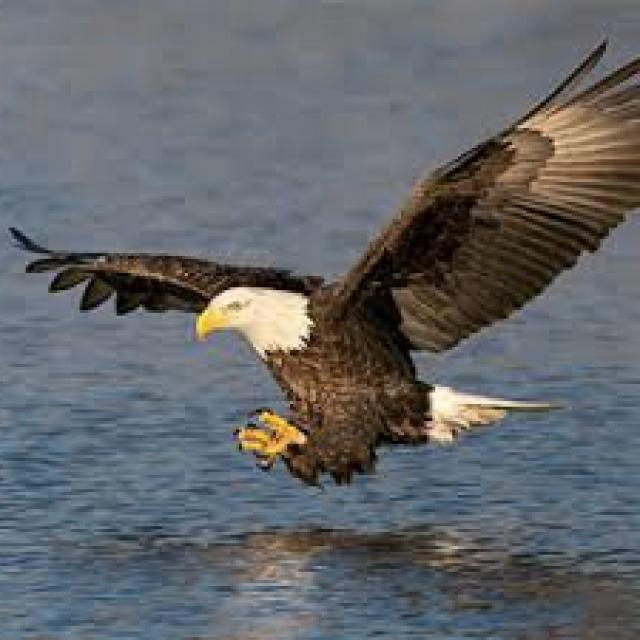eagle: (14, 60, 640, 481)
